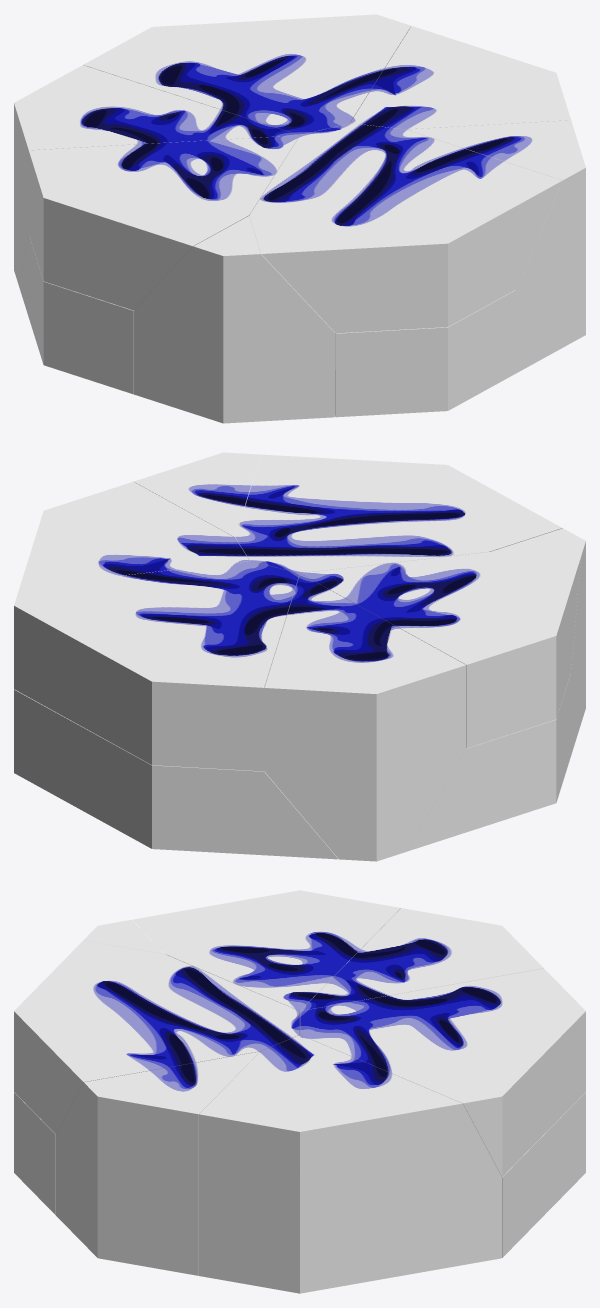
Rendered from 폭발장기_대.fbx.
The picture shows the model from 3 angles, top to bottom: view 1: azimuth 30°, elevation 25°; view 2: azimuth 150°, elevation 25°; view 3: azimuth 270°, elevation 25°; orthographic projection. The views are drawn at different scales.
Visible parts, largest first — view 1: Cylinder_cell.001, Cylinder_cell.019, Cylinder_cell.013, Cylinder_cell.015, Cylinder_cell.018, Cylinder_cell.014, Cylinder_cell.003, Cylinder_cell.017, Cylinder_cell.016; view 2: Cylinder_cell.015, Cylinder_cell.003, Cylinder_cell.019, Cylinder_cell.001, Cylinder_cell.005, Cylinder_cell.017, Cylinder_cell.016, Cylinder_cell.018, Cylinder_cell.013; view 3: Cylinder_cell.017, Cylinder_cell.015, Cylinder_cell.001, Cylinder_cell.018, Cylinder_cell.019, Cylinder_cell.003, Cylinder_cell.005, Cylinder_cell.014, Cylinder_cell.013.
Part boxes in pixels (x1=…): Cylinder_cell.001: x1=249, y1=123, x2=562, y2=333; Cylinder_cell.019: x1=28, y1=135, x2=299, y2=310; Cylinder_cell.013: x1=133, y1=216, x2=335, y2=423; Cylinder_cell.015: x1=83, y1=14, x2=410, y2=135; Cylinder_cell.018: x1=406, y1=120, x2=585, y2=372; Cylinder_cell.014: x1=335, y1=289, x2=516, y2=417; Cylinder_cell.003: x1=14, y1=65, x2=298, y2=285; Cylinder_cell.017: x1=350, y1=26, x2=570, y2=129; Cylinder_cell.016: x1=19, y1=234, x2=133, y2=394; Cylinder_cell.015: x1=14, y1=561, x2=299, y2=771; Cylinder_cell.003: x1=264, y1=573, x2=466, y2=861; Cylinder_cell.019: x1=300, y1=552, x2=580, y2=748; Cylinder_cell.001: x1=235, y1=454, x2=562, y2=573; Cylinder_cell.005: x1=14, y1=689, x2=338, y2=859; Cylinder_cell.017: x1=14, y1=481, x2=249, y2=689; Cylinder_cell.016: x1=407, y1=672, x2=571, y2=851; Cylinder_cell.018: x1=133, y1=452, x2=260, y2=539; Cylinder_cell.013: x1=490, y1=528, x2=585, y2=754; Cylinder_cell.017: x1=199, y1=1035, x2=501, y2=1293; Cylinder_cell.015: x1=300, y1=968, x2=585, y2=1176; Cylinder_cell.001: x1=14, y1=940, x2=299, y2=1133; Cylinder_cell.018: x1=56, y1=1051, x2=259, y2=1275; Cylinder_cell.019: x1=132, y1=890, x2=400, y2=1034; Cylinder_cell.003: x1=300, y1=908, x2=543, y2=1010; Cylinder_cell.005: x1=502, y1=1092, x2=585, y2=1257; Cylinder_cell.014: x1=14, y1=1092, x2=55, y2=1215; Cylinder_cell.013: x1=84, y1=920, x2=164, y2=954.
Bounding box in the file's own units: 283 × 88.38 × 283.
